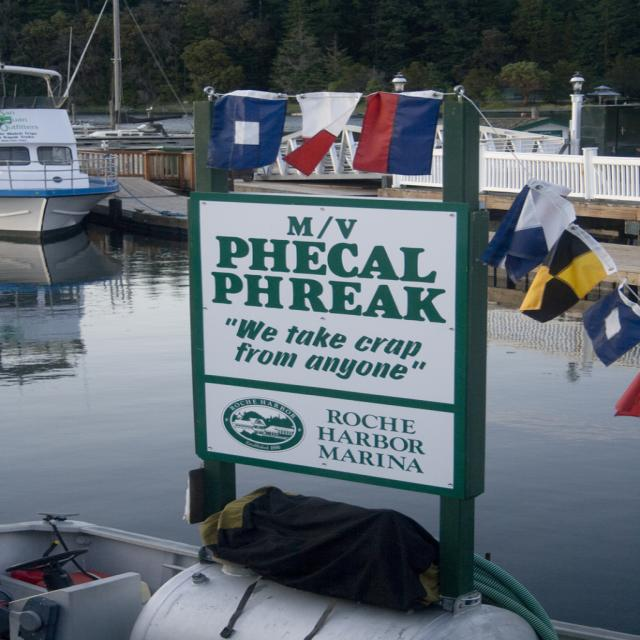Boat: (0, 61, 124, 232)
